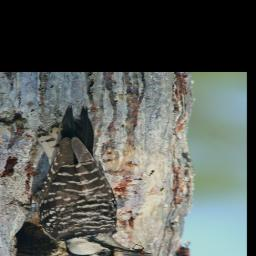Woodpecker: (6, 102, 155, 256)
